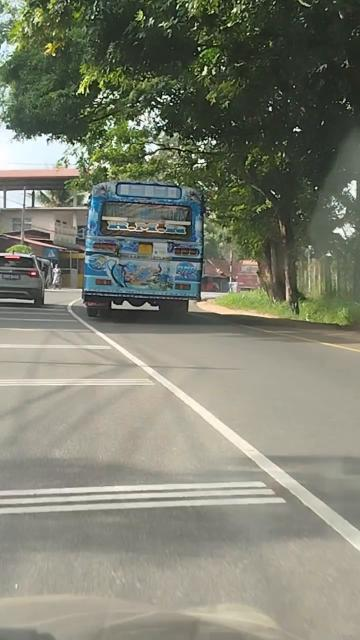illegal overtaking: (70, 159, 221, 333)
